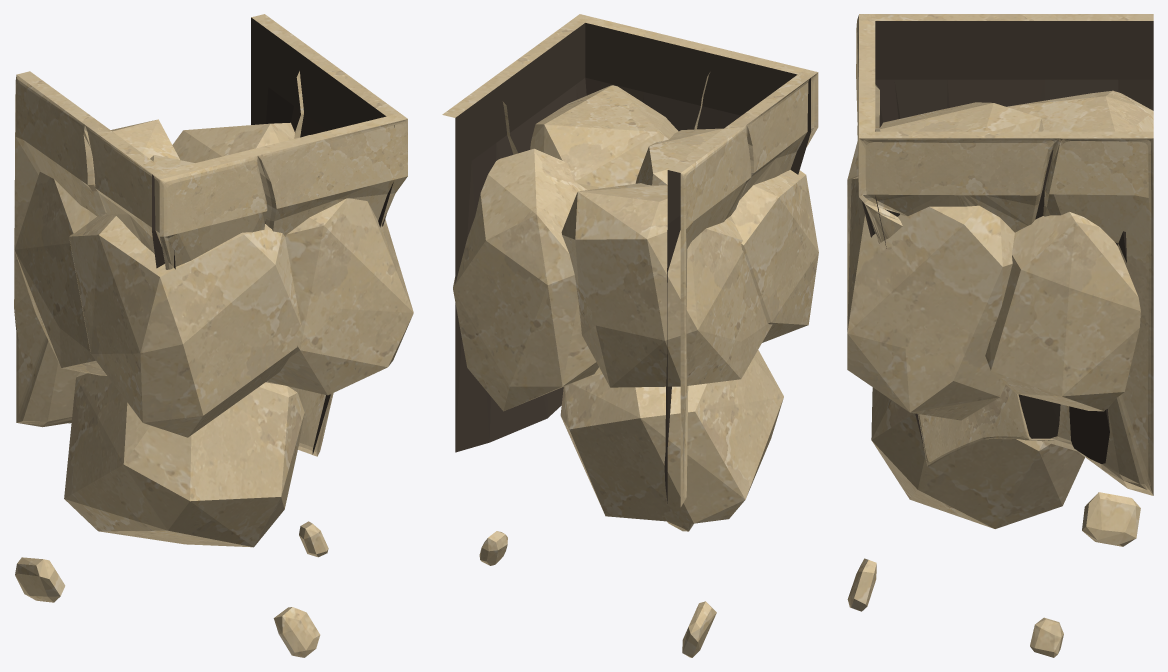
File: ground_bottom_square_end_03.glb
3 renders of one model, left to right at view 1: azimuth 30°, elevation 25°; view 2: azimuth 150°, elevation 25°; view 3: azimuth 270°, elevation 25°, orthographic. The views are drawn at different scales.
Visible parts, largest first — view 1: GroundBottomSquareEnd03_Body; view 2: GroundBottomSquareEnd03_Body; view 3: GroundBottomSquareEnd03_Body.
Part boxes in pixels (bbox=[...]): GroundBottomSquareEnd03_Body: bbox=[14, 14, 413, 657]; GroundBottomSquareEnd03_Body: bbox=[442, 14, 818, 657]; GroundBottomSquareEnd03_Body: bbox=[847, 14, 1153, 657].
Size of the model in its own units: 1.08 by 1.99 by 1.04.
Materials: 11 (10 with a texture image).
